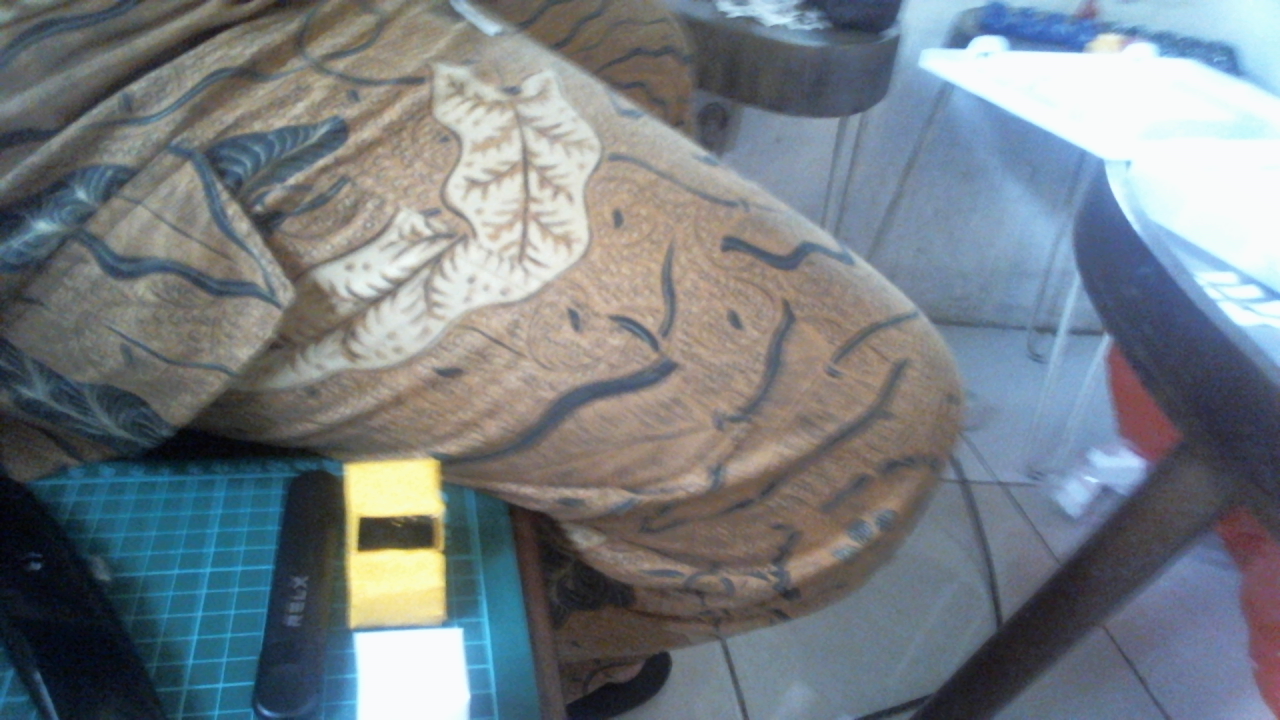Kijang Kapsul: (309, 441, 506, 640)
